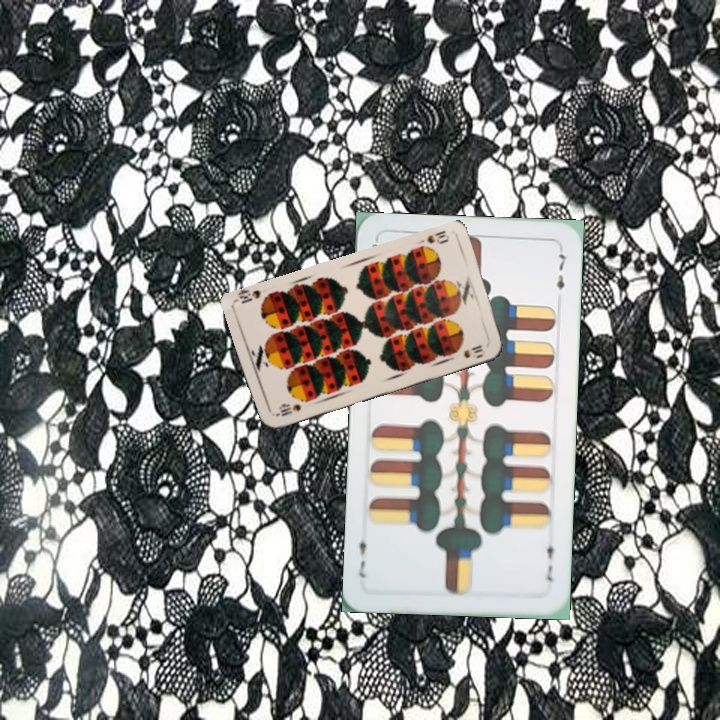E7: (543, 534, 557, 584)
S10: (271, 400, 304, 419), (423, 226, 451, 247)
